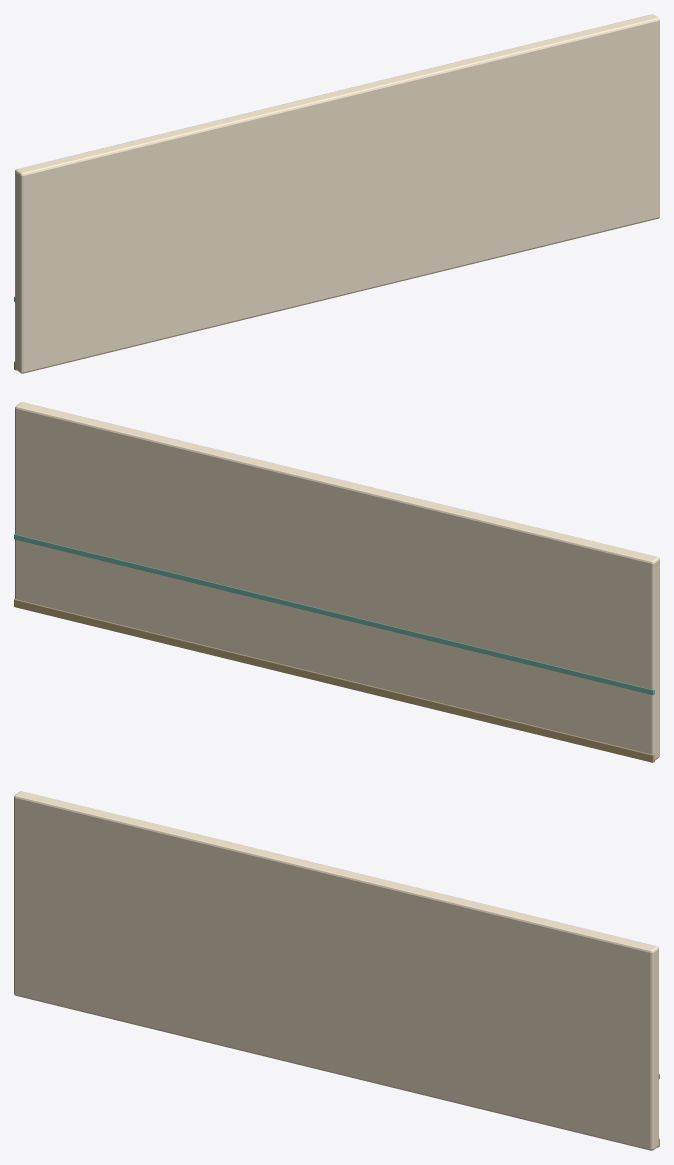
The model's file is Kitchen_Wall.fbx.
The picture shows the model from 3 angles, top to bottom: view 1: azimuth 30°, elevation 25°; view 2: azimuth 150°, elevation 25°; view 3: azimuth 330°, elevation 25°; orthographic projection.
Parts seen in each view (by area): view 1: Wall; view 2: Wall; view 3: Wall.
Part boxes in pixels (x1=…): Wall: x1=14, y1=14, x2=659, y2=373; Wall: x1=14, y1=402, x2=659, y2=762; Wall: x1=14, y1=791, x2=659, y2=1150.
Bounding box in the file's own units: 10 × 3 × 0.21.
